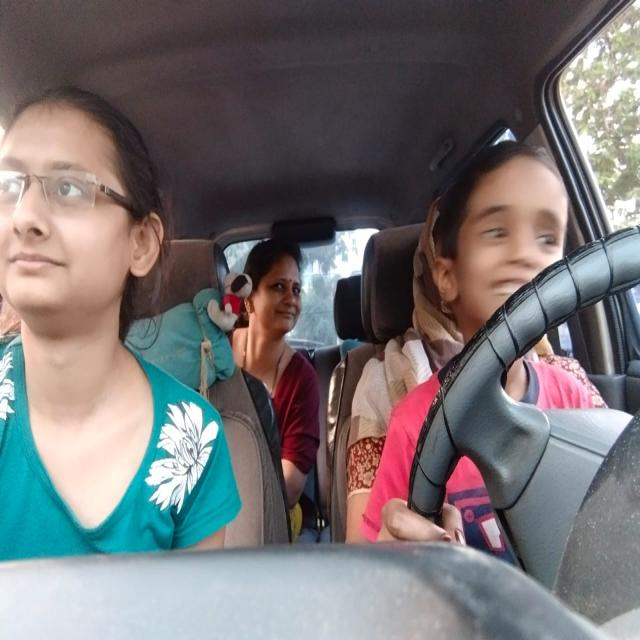child: (432, 125, 598, 347)
person: (0, 72, 172, 358), (245, 227, 318, 357)
